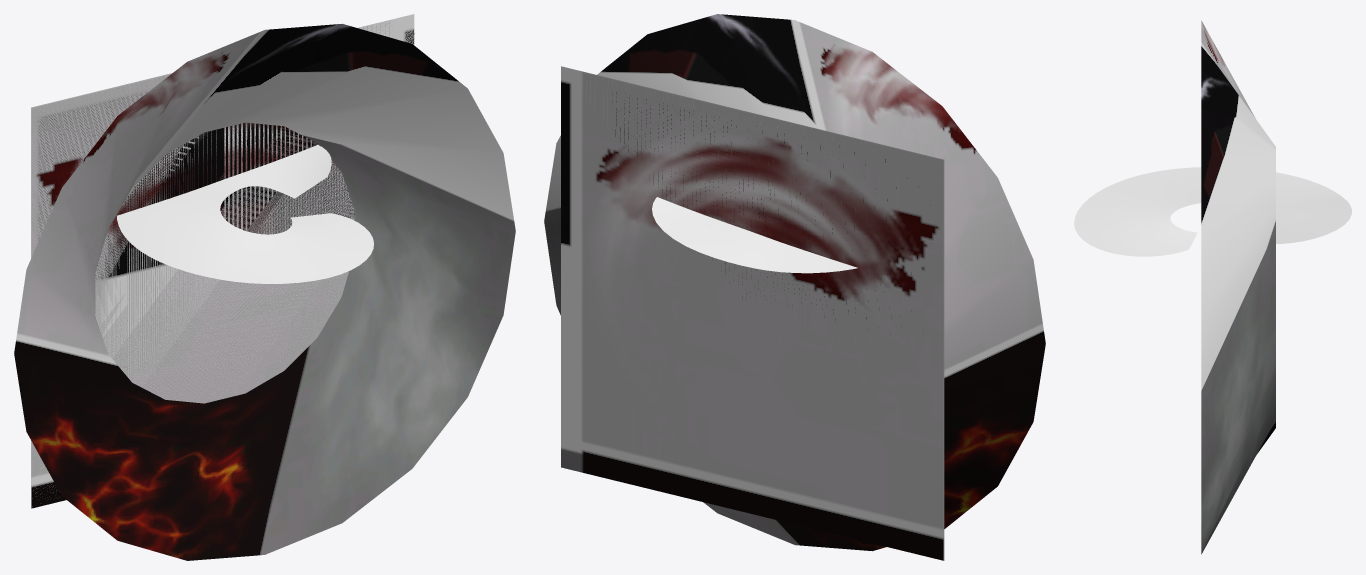
Rendered from fx_blade_skill_2.FBX.
3 views of the same model, side by side, from view 1: azimuth 30°, elevation 25°; view 2: azimuth 150°, elevation 25°; view 3: azimuth 270°, elevation 25° (orthographic). The views are drawn at different scales.
Visible parts, largest first — view 1: blade_skill_2_groundtwistsmoke, blade_skill_2_plane_1, blade_skill_2_plane_2, blade_skill_2_edge; view 2: blade_skill_2_plane_1, blade_skill_2_groundtwistsmoke, blade_skill_2_edge, blade_skill_2_plane_2; view 3: blade_skill_2_groundtwistsmoke, blade_skill_2_edge.
Boxes of the visible parts, x1,y1,x2,y2 form: blade_skill_2_groundtwistsmoke: (14,23,515,560); blade_skill_2_plane_1: (31,16,414,508); blade_skill_2_plane_2: (31,14,414,494); blade_skill_2_edge: (117,145,373,283); blade_skill_2_plane_1: (561,66,944,560); blade_skill_2_groundtwistsmoke: (544,14,1045,551); blade_skill_2_edge: (652,197,857,273); blade_skill_2_plane_2: (569,68,930,401); blade_skill_2_groundtwistsmoke: (1201,20,1275,554); blade_skill_2_edge: (1074,167,1351,256).
Size of the model in its own units: 1047 by 1047 by 540.
